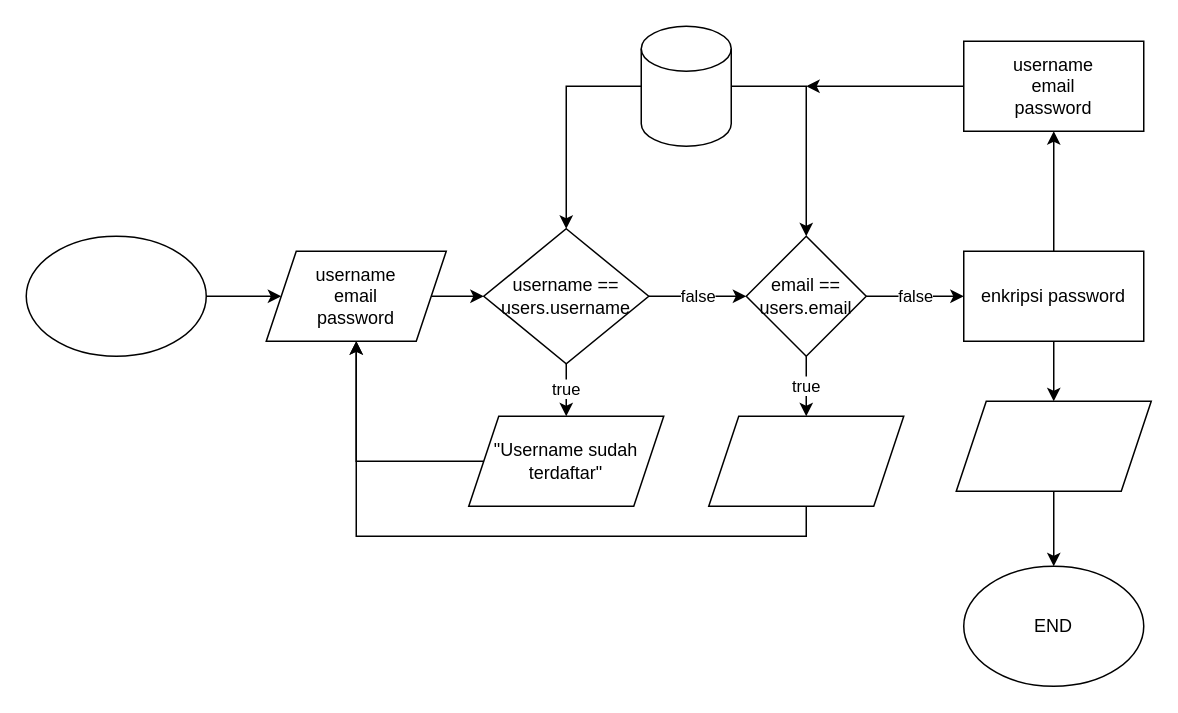
Image size: 1178x713. Some labels were removed from this diagram. The box of each missing label's shape, as (x1, y1, x2, y2) in pixels:
"Berhasil register": (955, 400, 1151, 491)
"Email sudah terdaftar": (707, 415, 904, 506)
START: (25, 235, 206, 356)
users: (640, 25, 731, 146)
